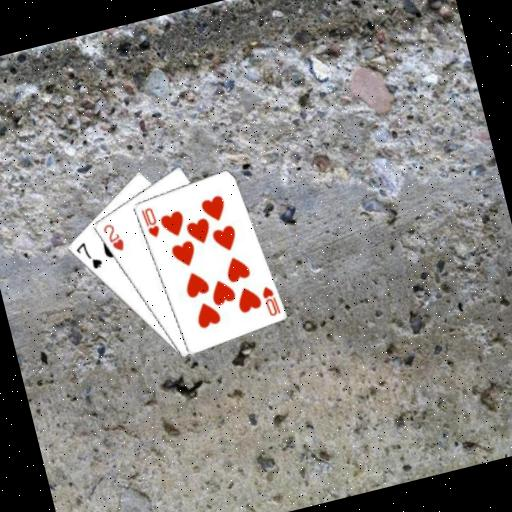10H: (137, 203, 163, 241), (257, 281, 283, 319)
2H: (98, 219, 126, 256)
7S: (71, 237, 105, 275)
